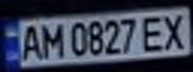0: (66, 19, 87, 56)
2: (103, 16, 124, 56)
7: (118, 15, 142, 54)
8: (84, 18, 106, 57)
A: (15, 22, 45, 61)
E: (139, 12, 169, 53)
M: (36, 20, 63, 60)
X: (157, 10, 193, 51)
